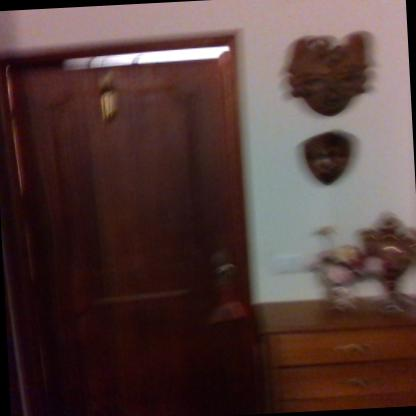closed: (0, 17, 271, 416)
